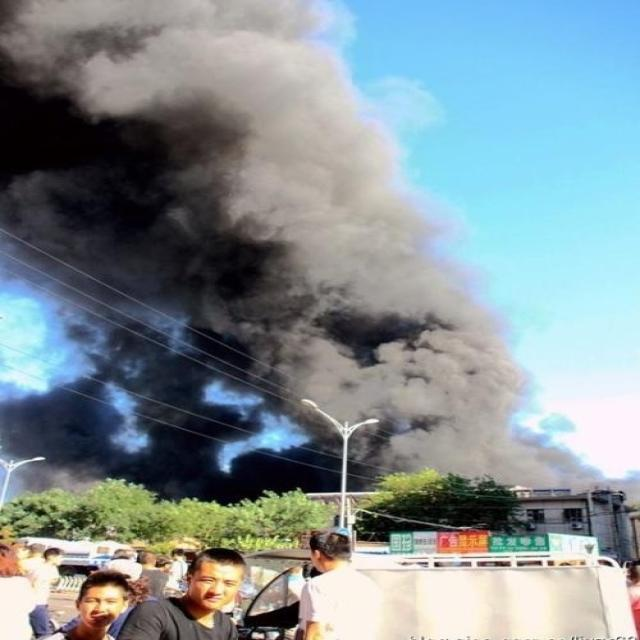Smoke: (1, 1, 638, 507)
